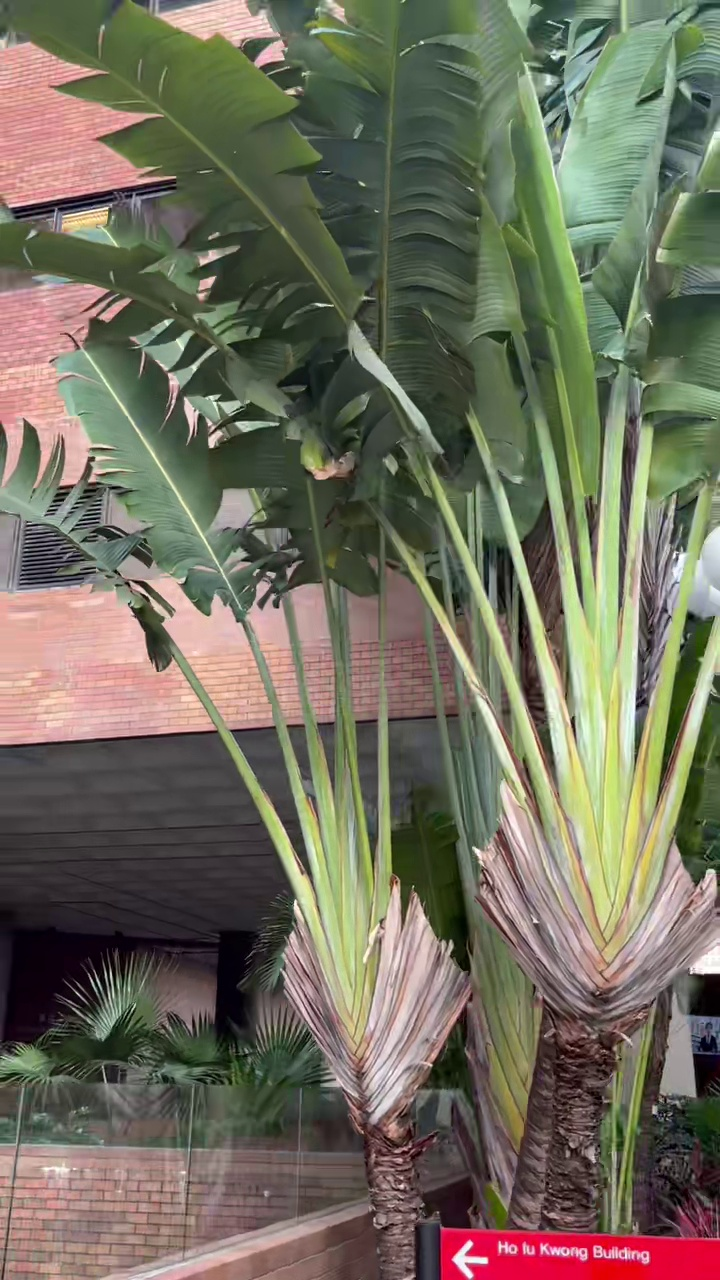Travellers-tree: (8, 0, 719, 1279)
